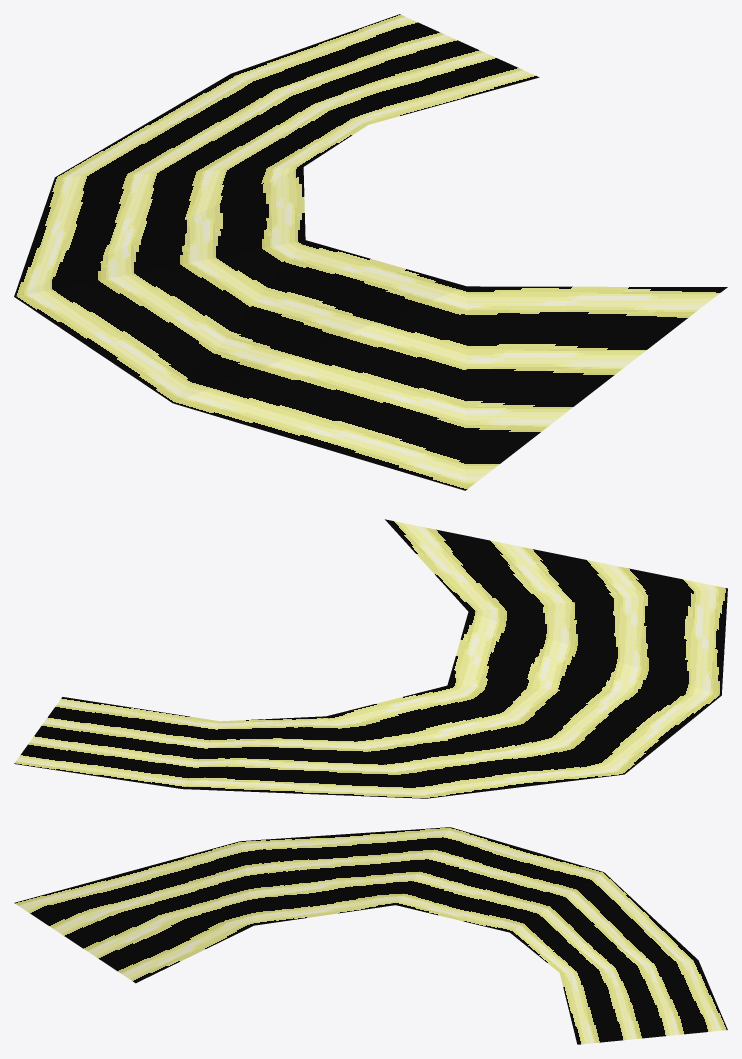
The picture shows the model from 3 angles, top to bottom: view 1: azimuth 30°, elevation 25°; view 2: azimuth 150°, elevation 25°; view 3: azimuth 270°, elevation 25°; orthographic projection. The views are drawn at different scales.
Visible parts, largest first — view 1: ef_610; view 2: ef_610; view 3: ef_610.
Part boxes in pixels (x1,y1,x2,y2): ef_610: (14,14,727,490); ef_610: (14,519,727,798); ef_610: (14,827,727,1044).
Size of the model in its own units: 0.9844 by 0.0938 by 1.32.
Materials: 1 (1 with a texture image).
